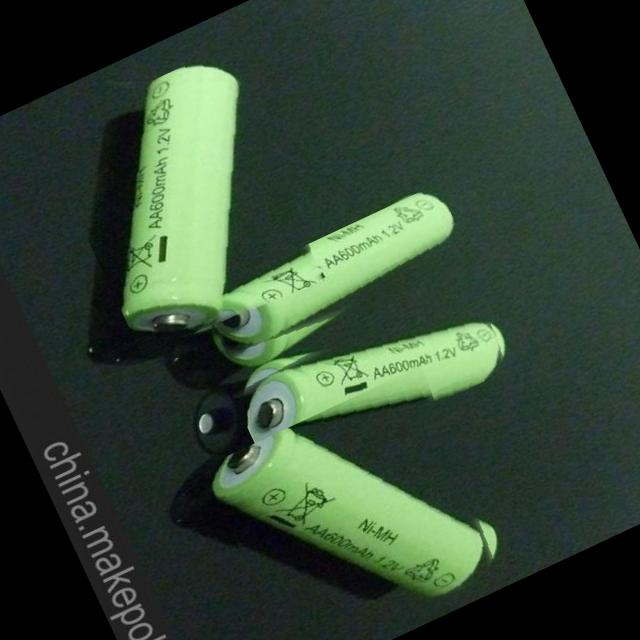Hazard: (38, 48, 330, 364), (201, 366, 515, 640), (225, 268, 515, 480), (193, 184, 475, 380)
